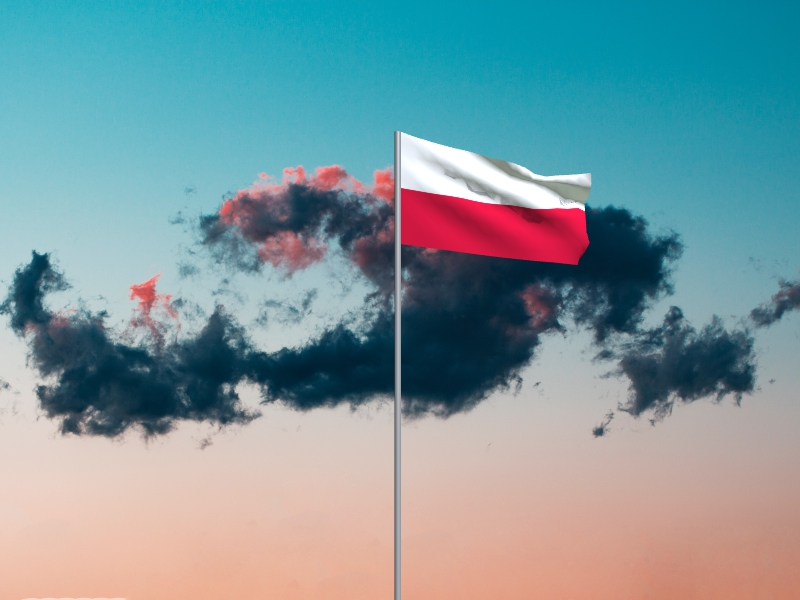pl: (402, 133, 592, 266)
